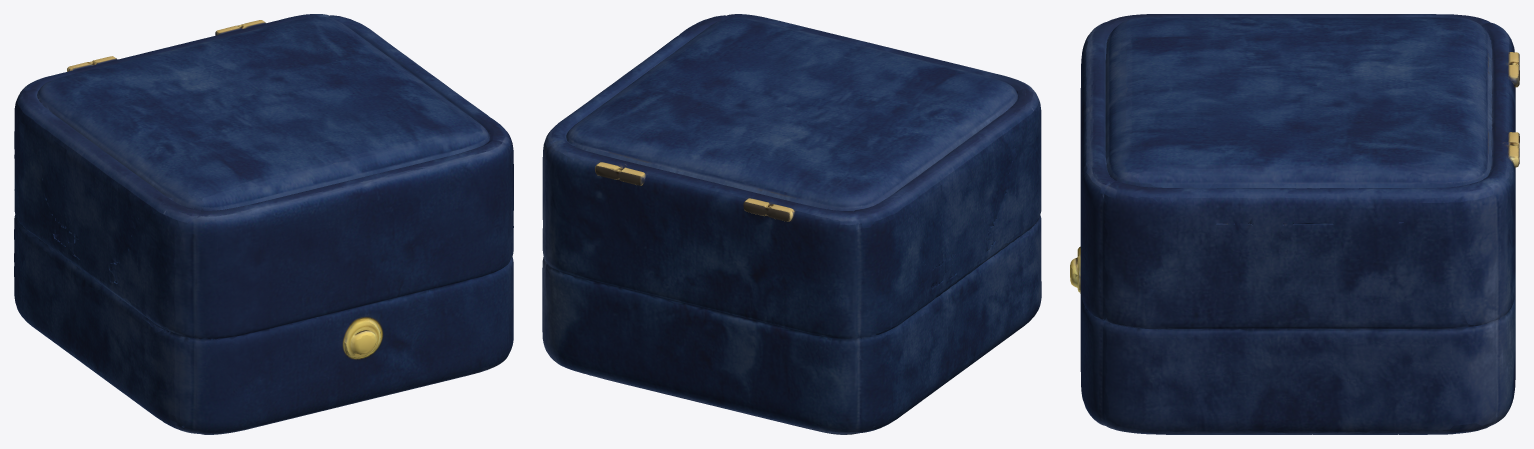
The model's file is jewelry-box.glb.
The picture shows the model from 3 angles, left to right: view 1: azimuth 30°, elevation 25°; view 2: azimuth 150°, elevation 25°; view 3: azimuth 270°, elevation 25°; orthographic projection. The views are drawn at different scales.
Visible parts, largest first — view 1: geometry_0; view 2: geometry_0; view 3: geometry_0.
Part boxes in pixels (x1=…): geometry_0: x1=14, y1=14, x2=513, y2=434; geometry_0: x1=542, y1=14, x2=1041, y2=434; geometry_0: x1=1070, y1=14, x2=1519, y2=434.
Size of the model in its own units: 0.1 by 0.067 by 0.1006.
1 material, 1 textured.
